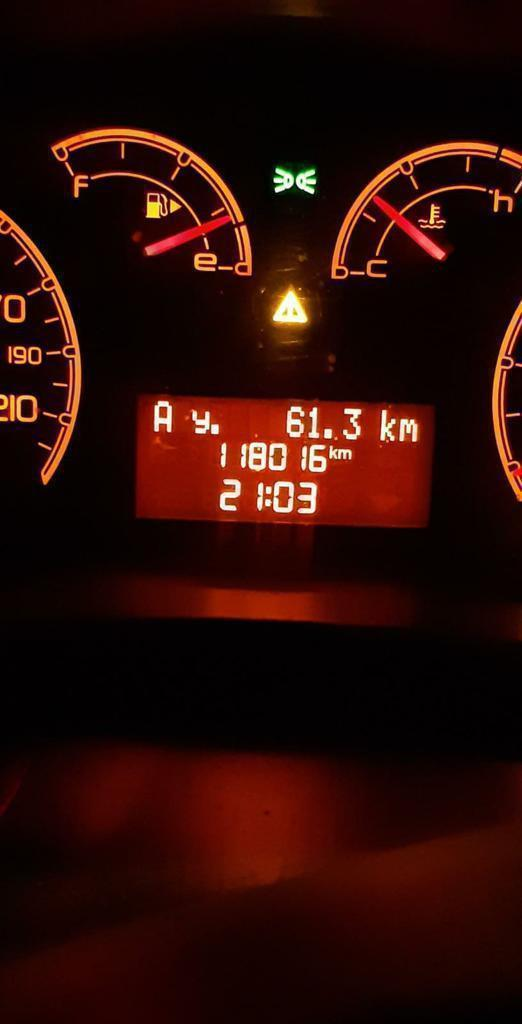,: (210, 422, 222, 436), (323, 426, 334, 441)
0: (273, 478, 294, 514), (268, 440, 288, 473)
1: (308, 405, 320, 440), (217, 439, 229, 467), (254, 479, 262, 515), (299, 442, 308, 474), (239, 440, 248, 470)
2: (219, 477, 242, 512)
3: (341, 405, 364, 442), (295, 479, 318, 515)
6: (284, 404, 306, 438), (309, 442, 327, 473)
8: (249, 439, 266, 472)
X: (152, 398, 174, 433), (379, 406, 395, 444), (398, 415, 418, 444), (192, 407, 210, 434), (337, 447, 352, 461), (264, 483, 271, 509), (328, 443, 337, 460)
odometer: (133, 390, 437, 531)
